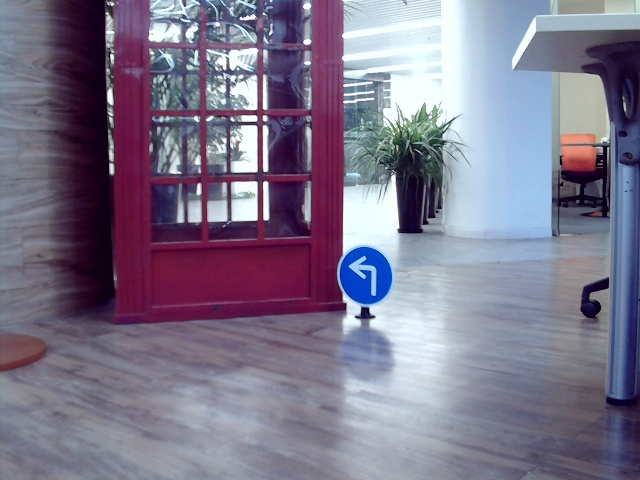turn_left: (349, 251, 379, 293)
